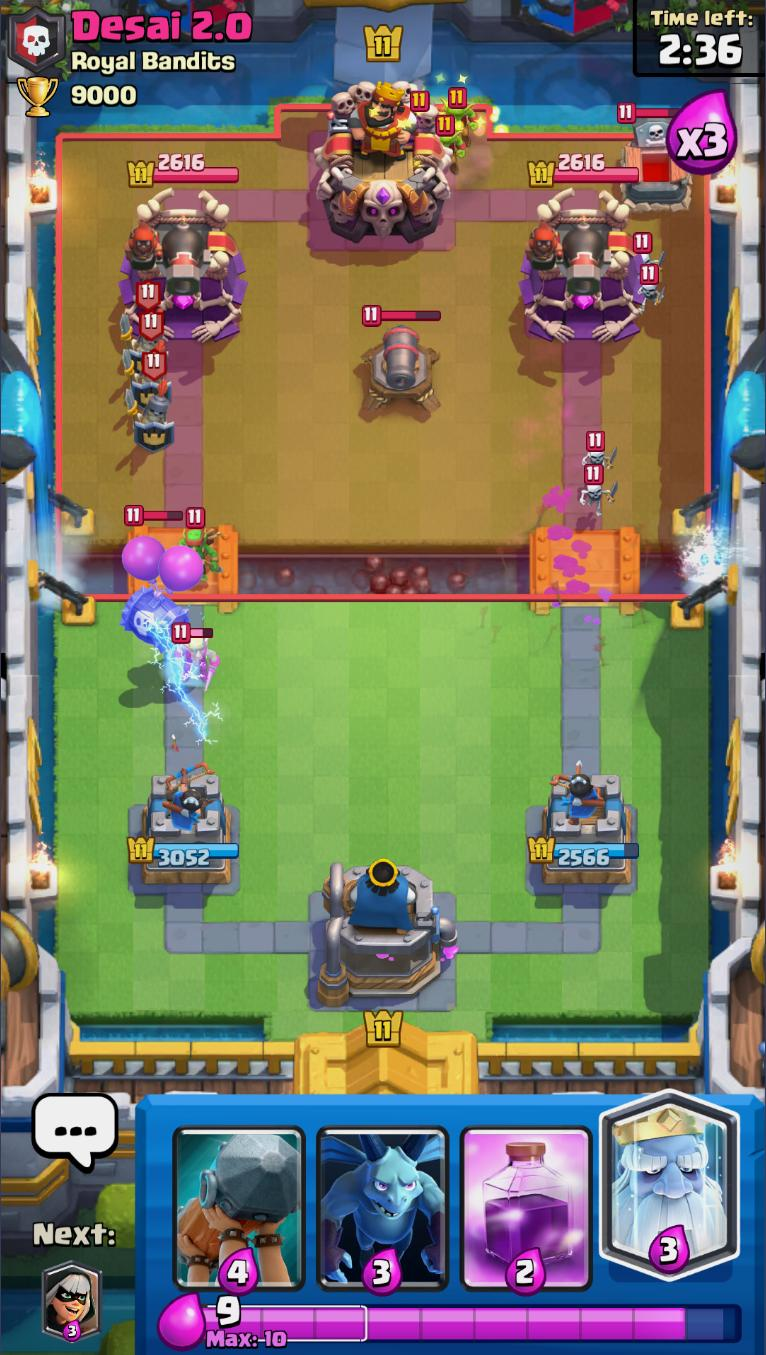BanditNext: (41, 1261, 101, 1346)
BattleRamDeck: (167, 1094, 313, 1294)
Cannon: (359, 303, 444, 419)
Cannoneer: (524, 214, 609, 300), (127, 216, 207, 300)
Elixir: (203, 1296, 743, 1346)
EnemyTower: (121, 187, 250, 343), (520, 189, 650, 343)
Goblin: (176, 623, 219, 689), (431, 116, 466, 176), (440, 87, 479, 131)
Guards: (127, 351, 176, 451), (120, 309, 171, 381), (120, 280, 173, 347)
KingTower: (314, 77, 456, 246)
MinionsDeck: (310, 1094, 456, 1299)
MyKingTower: (319, 860, 457, 1011)
MyPrincessTower: (527, 774, 641, 890), (127, 776, 241, 890)
MyPrincessTowerHP: (127, 833, 241, 869), (526, 836, 641, 869)
RageDeck: (456, 1096, 597, 1293)
RoyaleGhostDeck: (596, 1096, 741, 1293)
Skeleton: (581, 464, 620, 516), (580, 431, 619, 473), (636, 263, 667, 314), (636, 233, 666, 271)
SkeletonBarrel: (117, 506, 204, 654)
SpearGoblin: (177, 507, 226, 580)
Tombstone: (616, 103, 694, 214)
TowerPrincessHP: (129, 153, 241, 189), (529, 153, 640, 189)
